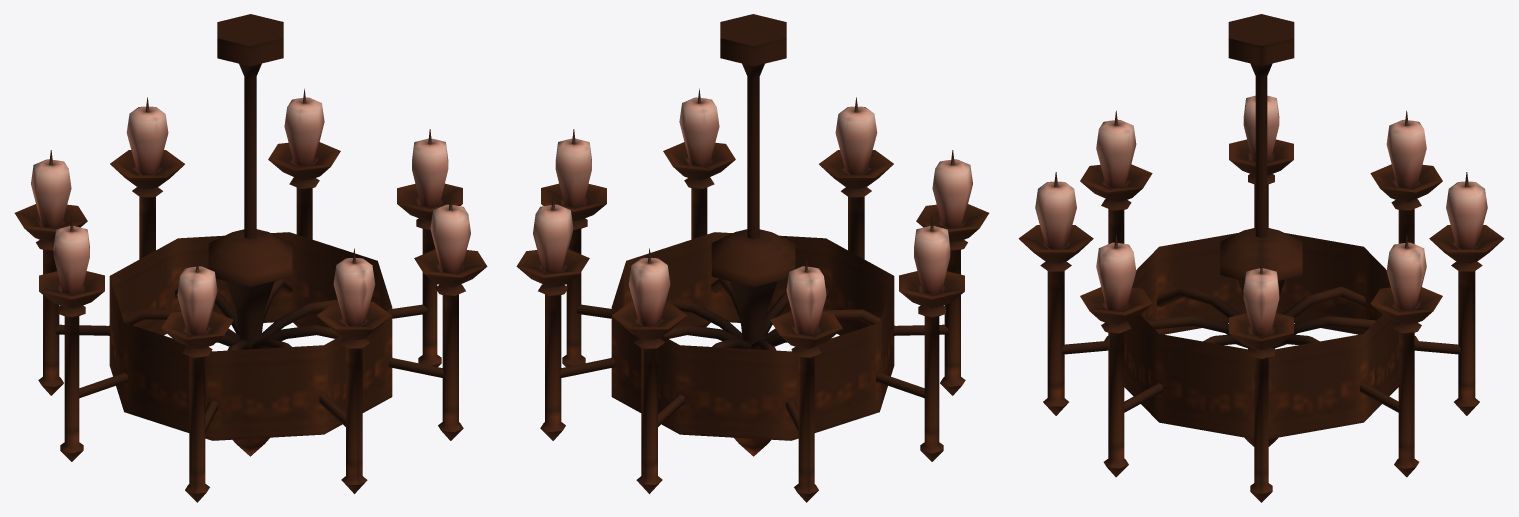
Rendered from Church_Chandellie.FBX.
The picture shows the model from 3 angles, left to right: view 1: azimuth 30°, elevation 25°; view 2: azimuth 150°, elevation 25°; view 3: azimuth 270°, elevation 25°; orthographic projection.
Parts seen in each view (by area): view 1: Church_Chandellie; view 2: Church_Chandellie; view 3: Church_Chandellie.
Part boxes in pixels (left/top/right/bottom): Church_Chandellie: left=14, top=14, right=487, bottom=502; Church_Chandellie: left=516, top=14, right=989, bottom=502; Church_Chandellie: left=1018, top=14, right=1504, bottom=502.
Bounding box in the file's own units: 84.95 × 81.61 × 84.95.
